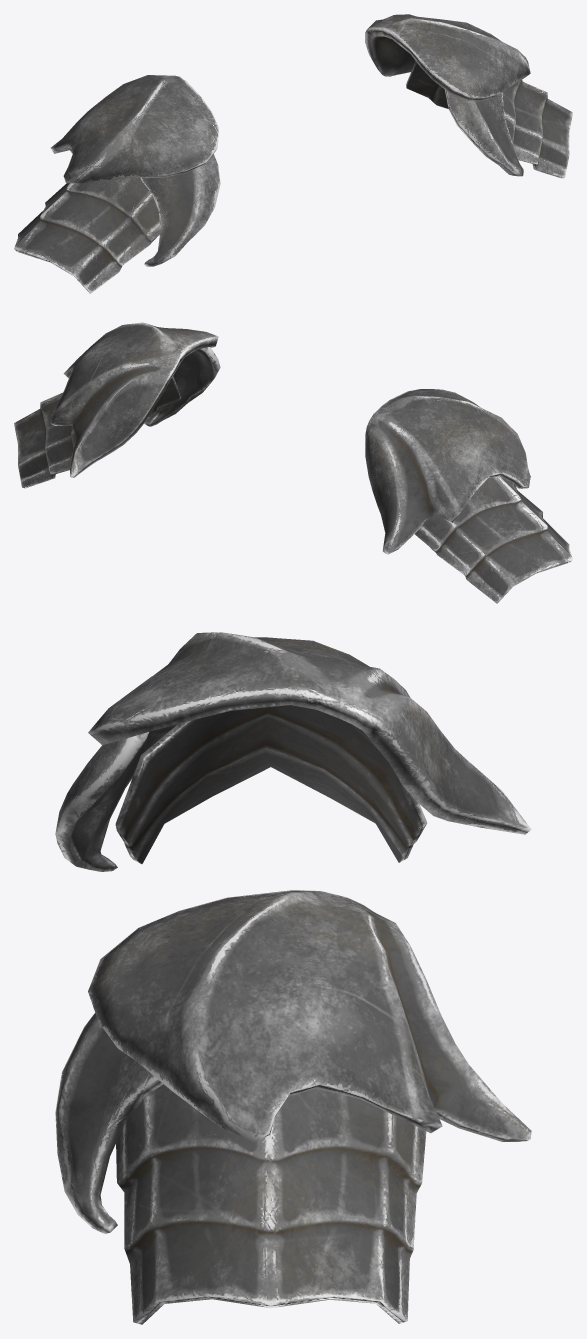
The model's file is moriaorc_v1_shoulder.fbx.
3 renders of one model, top to bottom at view 1: azimuth 30°, elevation 25°; view 2: azimuth 150°, elevation 25°; view 3: azimuth 270°, elevation 25°, orthographic. The views are drawn at different scales.
Visible parts, largest first — view 1: moriaorc_v1_shoulder; view 2: moriaorc_v1_shoulder; view 3: moriaorc_v1_shoulder.
Part boxes in pixels (x1,y1,x2,y2): moriaorc_v1_shoulder: [14, 14, 572, 293]; moriaorc_v1_shoulder: [14, 322, 572, 603]; moriaorc_v1_shoulder: [55, 632, 531, 1324].
Size of the model in its own units: 0.7969 by 0.294 by 0.2185.
Materials: 1 (1 with a texture image).
